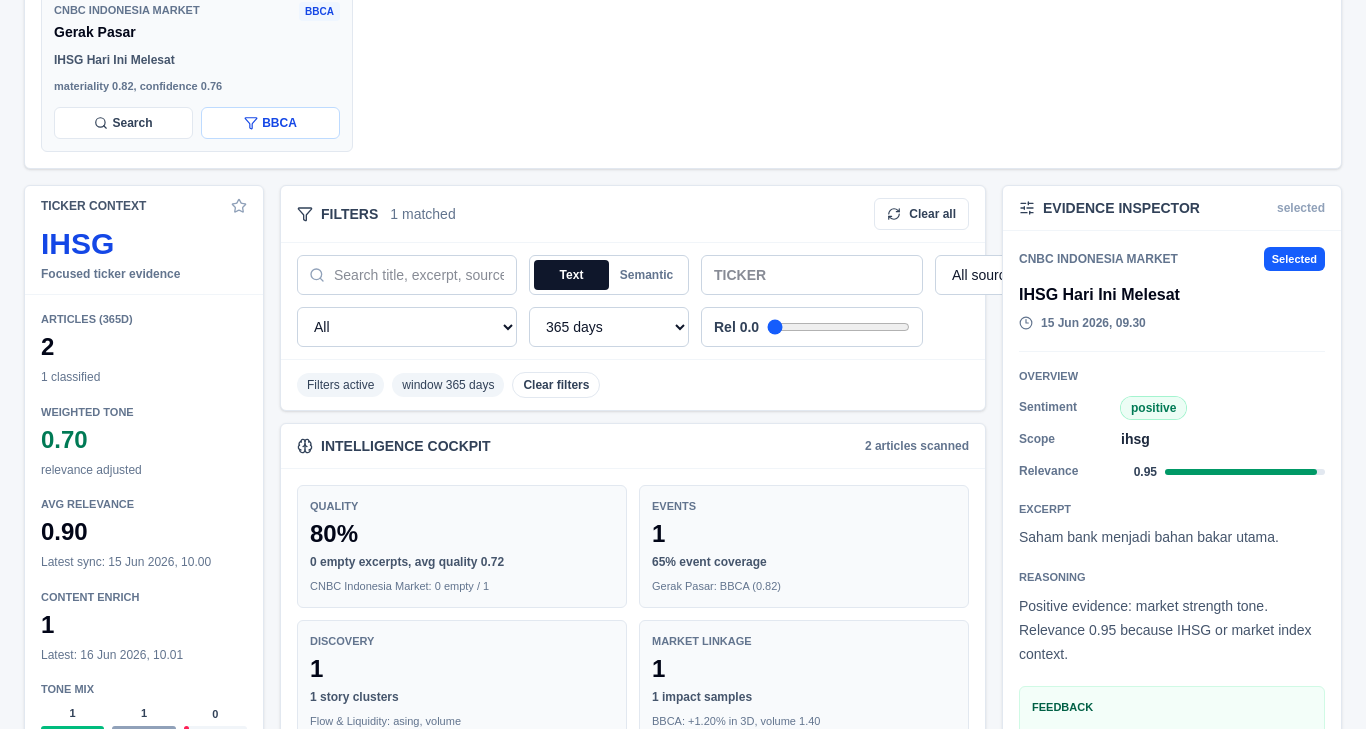
Test: NewsDashboard › treats a custom days window as an active filter that can be cleared
(page scrolled)
Check: the dropdown named "News days filter" shows "365 days", box [529,307,689,347]
Check: the text "window 365 days" is shown, box [392,373,504,397]
What coordinates should you click on to do the following:
click the button "Clear filters"
I would click on:
 (556, 385)
Its box is [512,372,600,398].
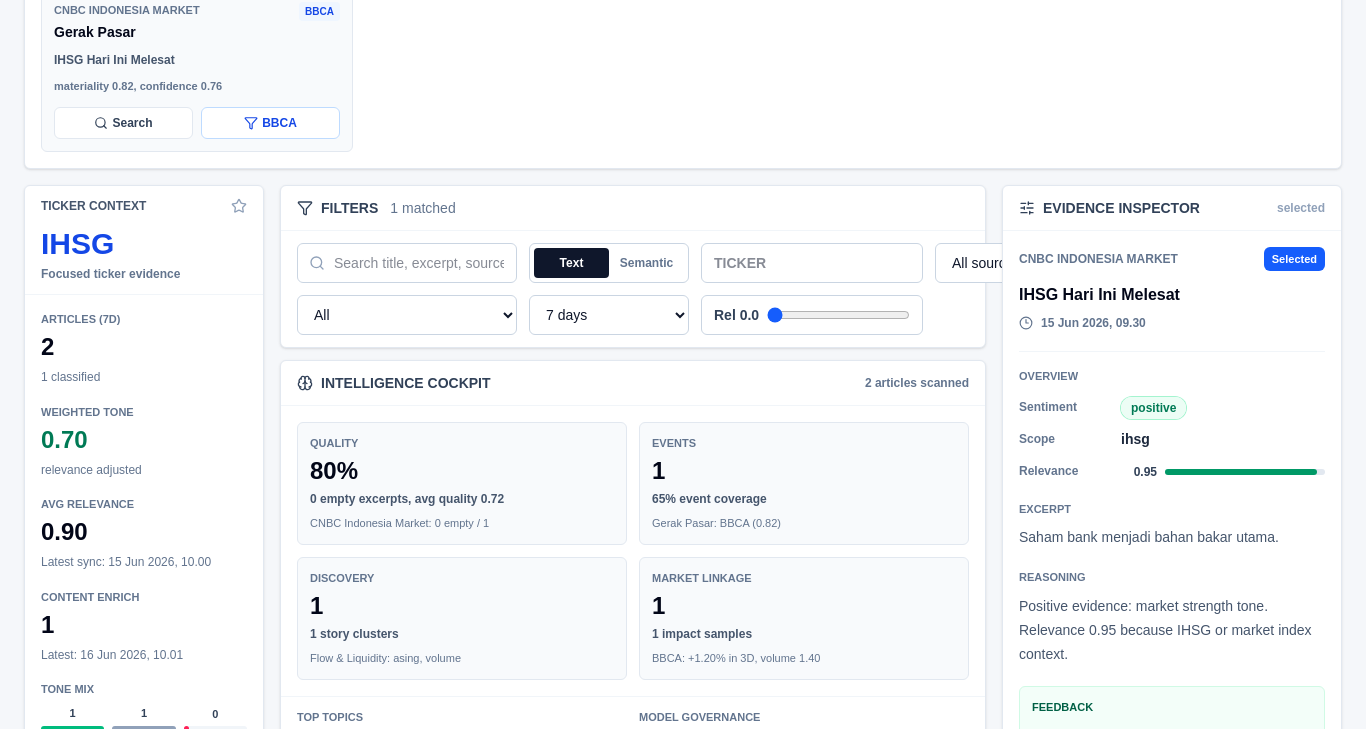
Check: the dropdown named "News days filter" shows "7 days", box [529,295,689,335]
